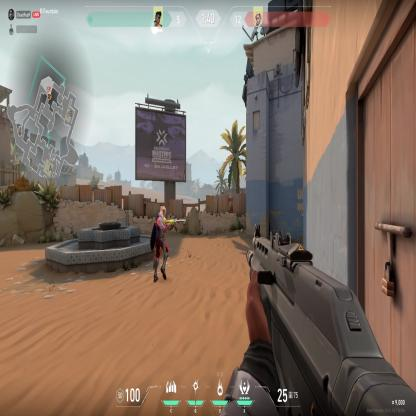enemy: (149, 202, 172, 286)
